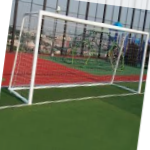goals: (9, 9, 150, 105)
